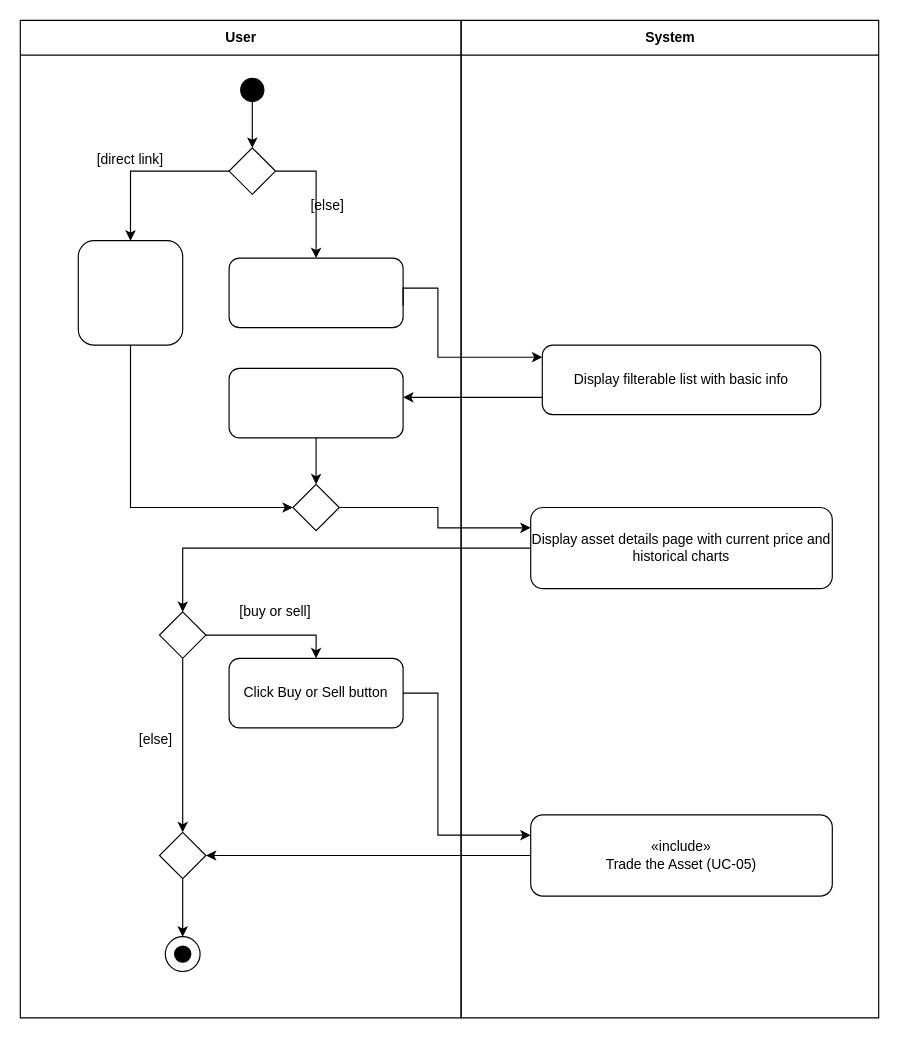
Some shapes in this 899 by 1038 pixel diagram are drawn without their labels. Here are the shapes that lost their labels. From the top down, the centre of each, then its label:
At (x=130, y=292): "Open asset details page directly (e.g. from the Portfolio)".
At (x=315, y=292): "Open asset list page".
At (x=315, y=402): "Filter and select an asset".
